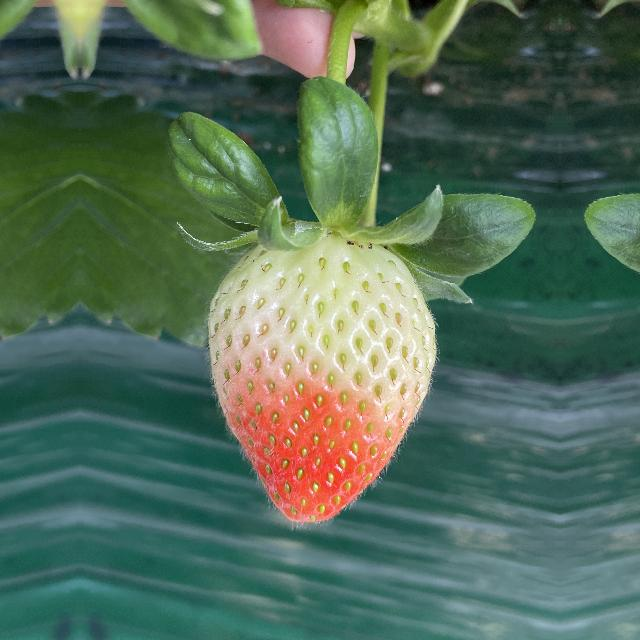Health_75: (208, 216, 440, 526)
